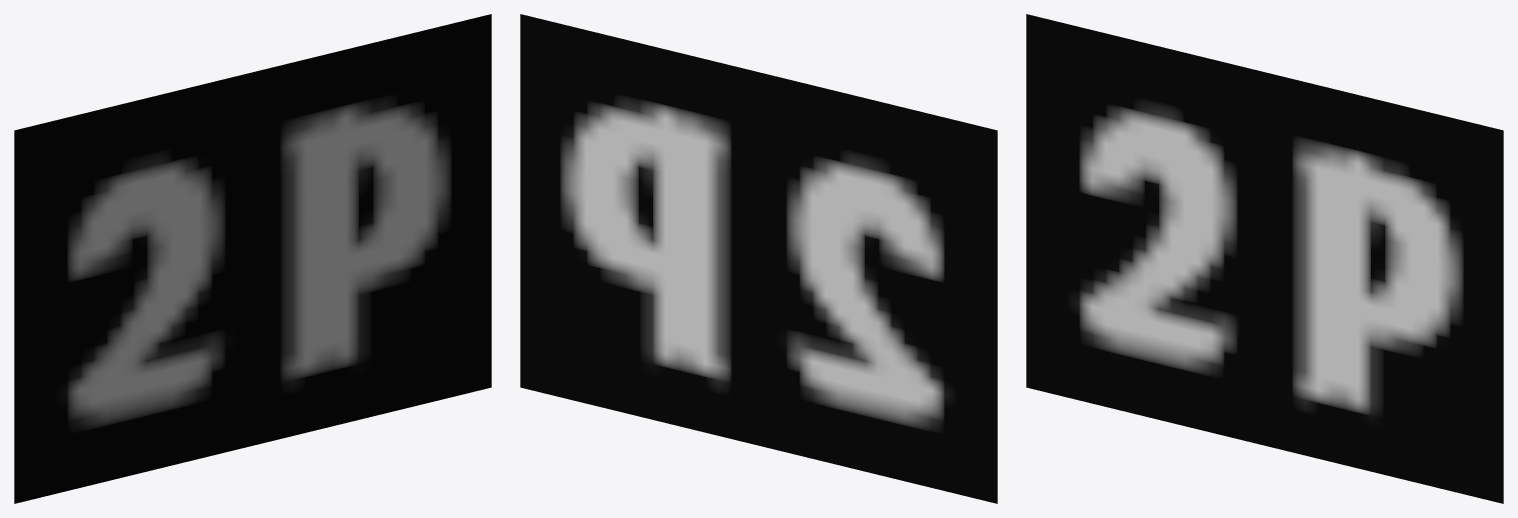
The picture shows the model from 3 angles, left to right: view 1: azimuth 30°, elevation 25°; view 2: azimuth 150°, elevation 25°; view 3: azimuth 330°, elevation 25°; orthographic projection.
Visible parts, largest first — view 1: Joint_0_Object_0; view 2: Joint_0_Object_0; view 3: Joint_0_Object_0.
Boxes of the visible parts, left/top/right/bottom form: Joint_0_Object_0: left=14, top=14, right=491, bottom=503; Joint_0_Object_0: left=520, top=14, right=997, bottom=503; Joint_0_Object_0: left=1026, top=14, right=1503, bottom=503.
Bounding box in the file's own units: 24.26 × 18.14 × 0.
1 material, 1 textured.
